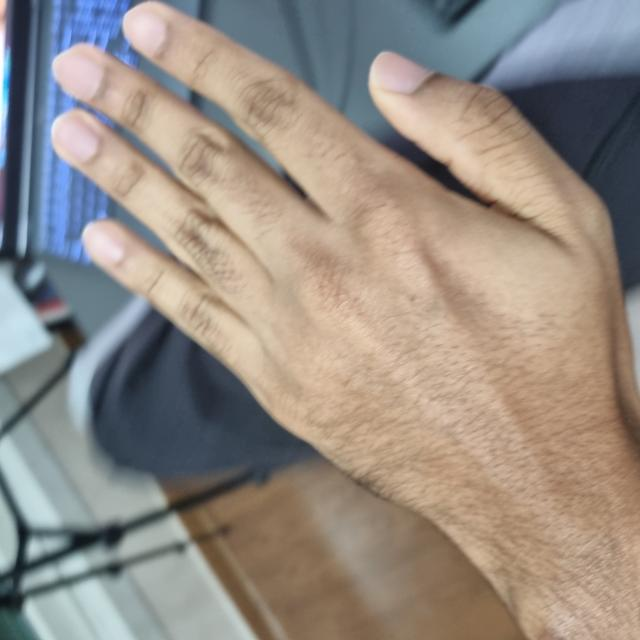Paper: (79, 49, 637, 638)
